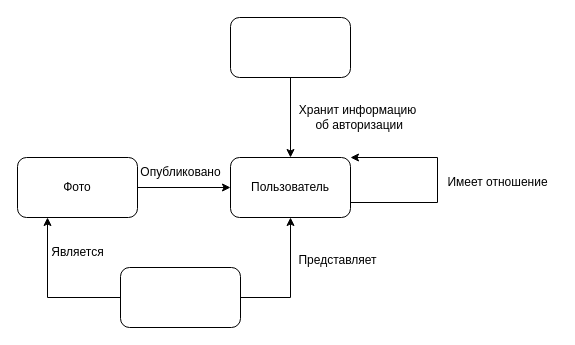
Some shapes in this 575 by 345 pixel diagram are drawn without their labels. Here are the shapes that lost their labels. From the top down, the box of each, then its label:
(230, 16, 350, 78): Сессия
(120, 266, 240, 328): Аватар
